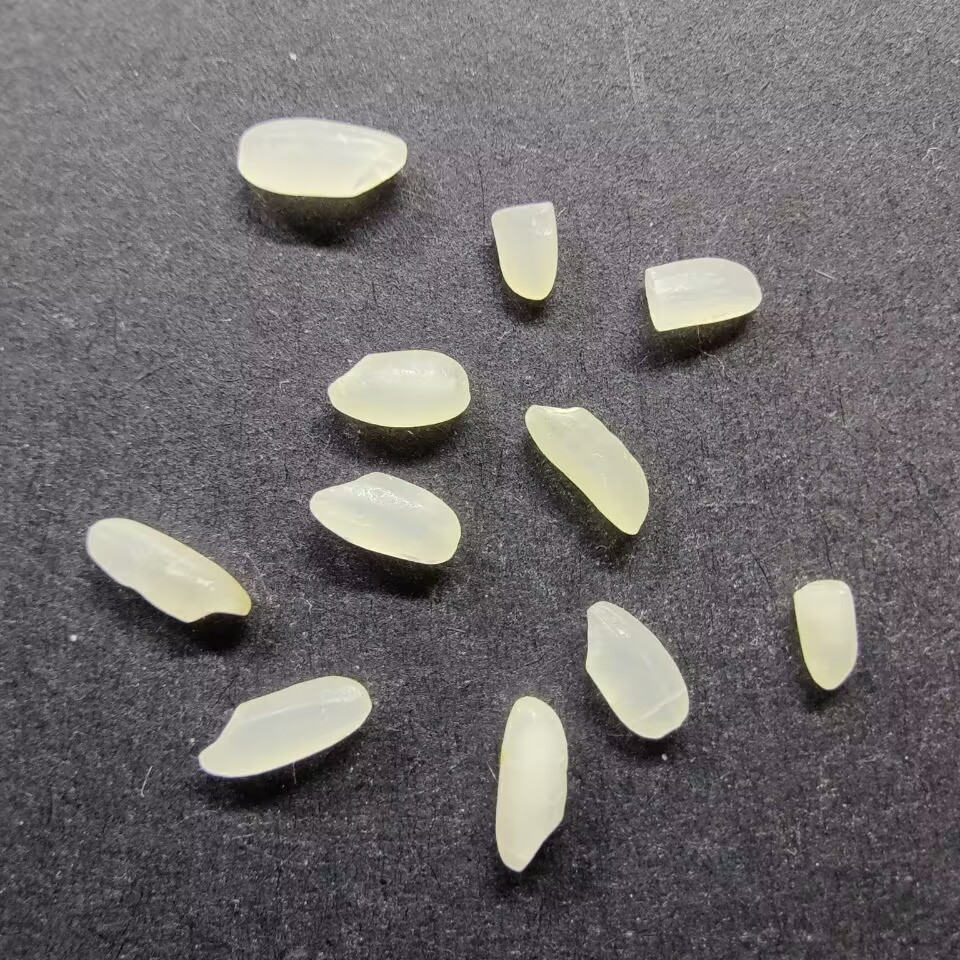broken: (641, 258, 763, 334), (792, 578, 860, 692), (490, 200, 560, 303)
rice: (197, 675, 373, 780), (82, 516, 251, 623), (523, 401, 652, 536), (583, 599, 692, 739), (306, 471, 461, 566), (235, 118, 408, 201), (493, 695, 569, 873), (327, 349, 473, 430)
